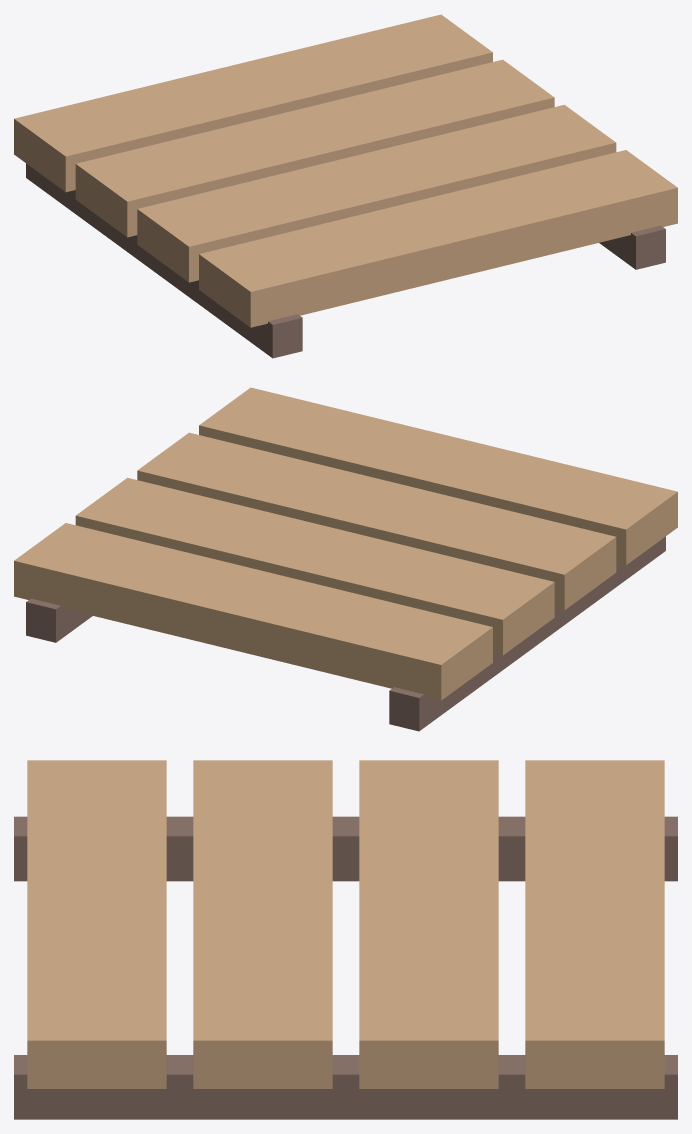
The model's file is village_wood_path_2m.glb.
3 renders of one model, top to bottom at view 1: azimuth 30°, elevation 25°; view 2: azimuth 150°, elevation 25°; view 3: azimuth 270°, elevation 25°, orthographic. The views are drawn at different scales.
Parts seen in each view (by area): view 1: wood_light, wood_dark; view 2: wood_light, wood_dark; view 3: wood_light, wood_dark.
Boxes of the visible parts, x1,y1,x2,y2 form: wood_light: (14,14,677,327); wood_dark: (26,163,665,358); wood_light: (14,387,677,700); wood_dark: (26,536,665,731); wood_light: (27,760,664,1088); wood_dark: (14,816,677,1119).
Size of the model in its own units: 2 by 0.3 by 2.
